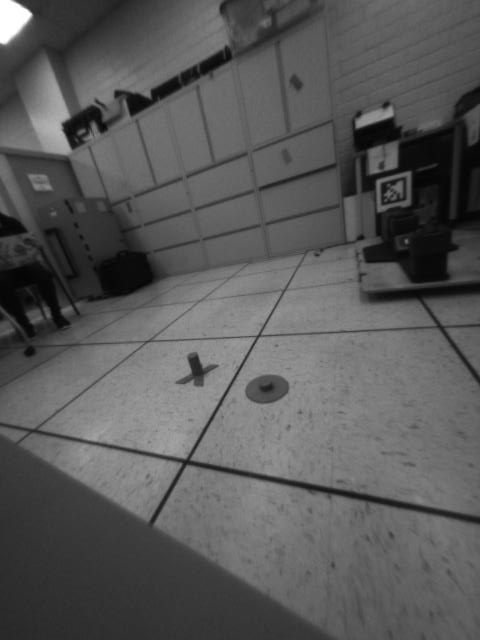X: (177, 352, 218, 386)
